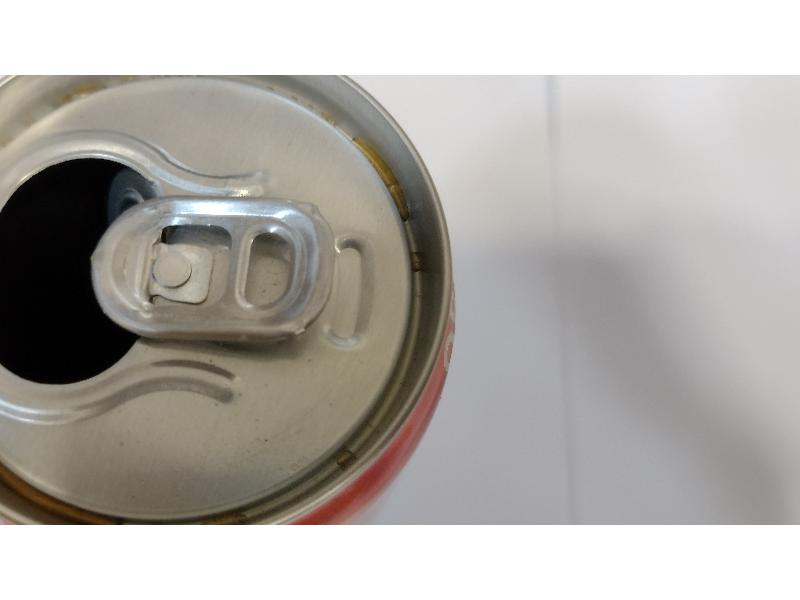can: (1, 75, 458, 522)
